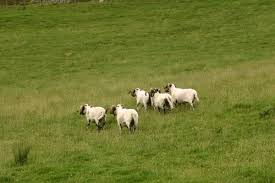sheep: (167, 79, 200, 110), (80, 101, 109, 136), (109, 101, 141, 131), (149, 83, 175, 113), (125, 88, 147, 114)
